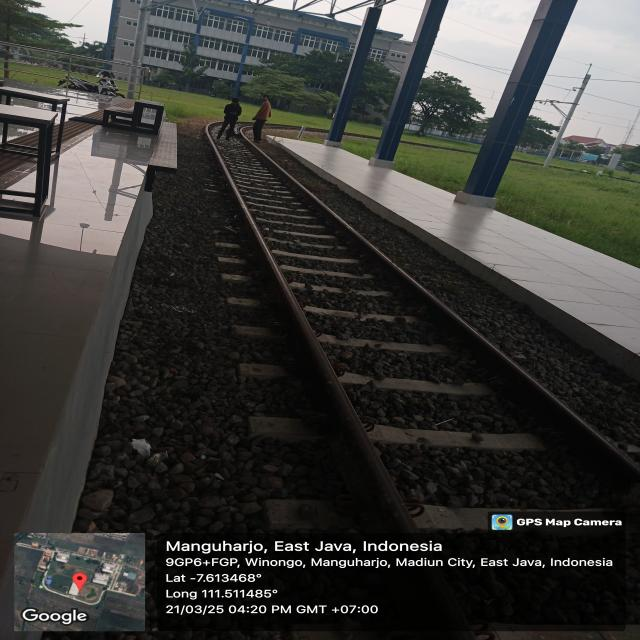rail-detection: (258, 150, 640, 480), (206, 130, 419, 534), (404, 570, 468, 632)
